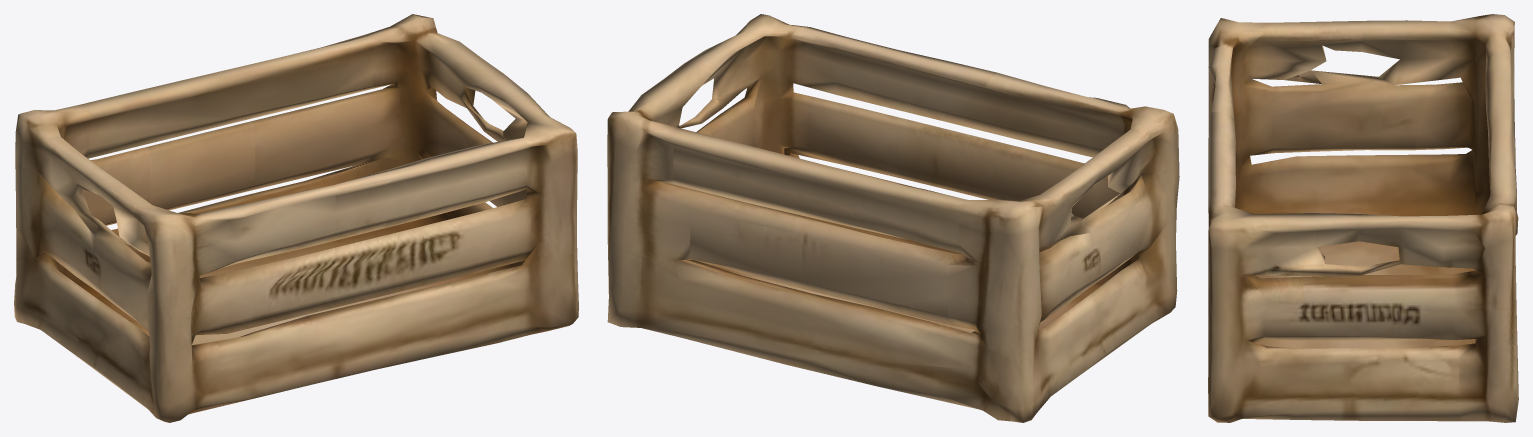
File: crate.glb
3 views of the same model, side by side, from view 1: azimuth 30°, elevation 25°; view 2: azimuth 150°, elevation 25°; view 3: azimuth 270°, elevation 25° (orthographic).
Visible parts, largest first — view 1: crate; view 2: crate; view 3: crate.
Boxes of the visible parts, bbox=[...] form: crate: bbox=[14, 14, 578, 422]; crate: bbox=[607, 14, 1179, 422]; crate: bbox=[1208, 14, 1518, 422].
Size of the model in its own units: 1.1 by 0.52 by 0.6999.
1 material, 1 textured.
